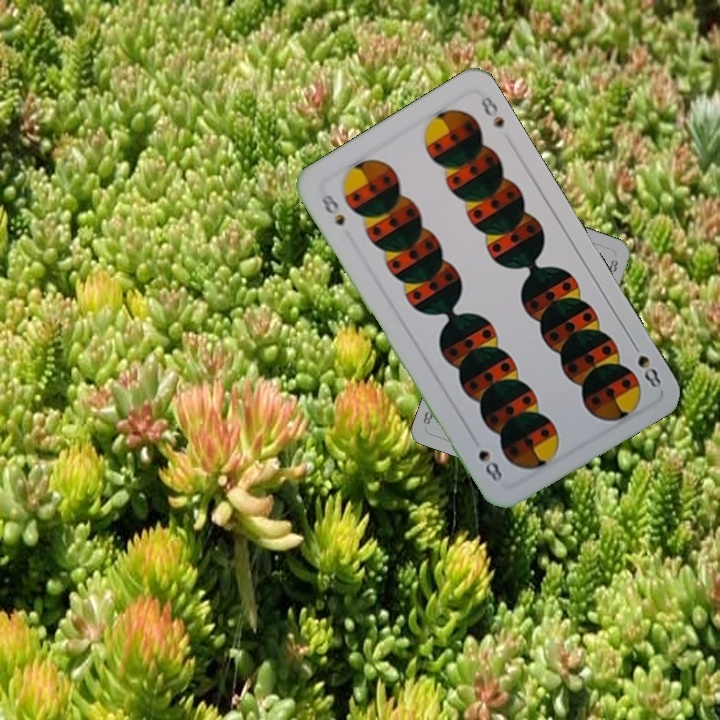S8: (627, 336, 664, 391), (316, 190, 348, 229)
